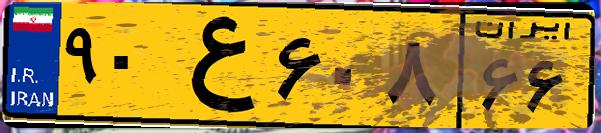0: (330, 28, 385, 110), (110, 28, 158, 98)
6: (270, 28, 330, 110), (475, 38, 525, 113), (525, 38, 570, 115)
8: (385, 28, 445, 110)
9: (57, 26, 110, 100)
ع: (158, 12, 270, 120)
